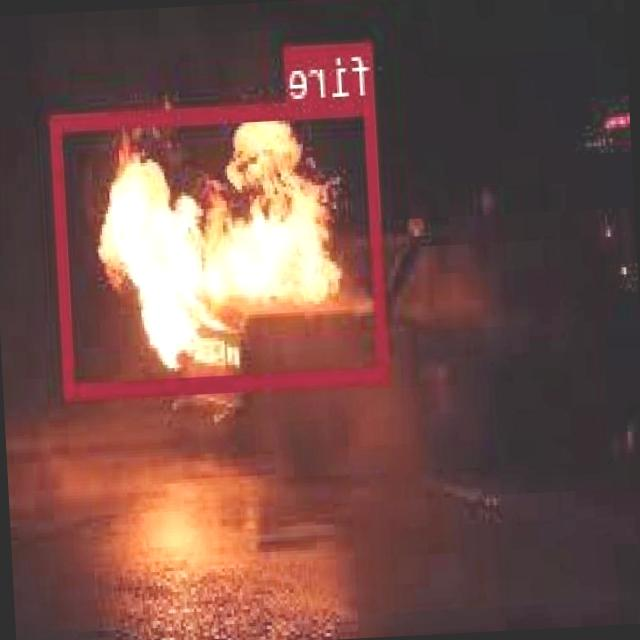fire: (52, 96, 391, 397)
